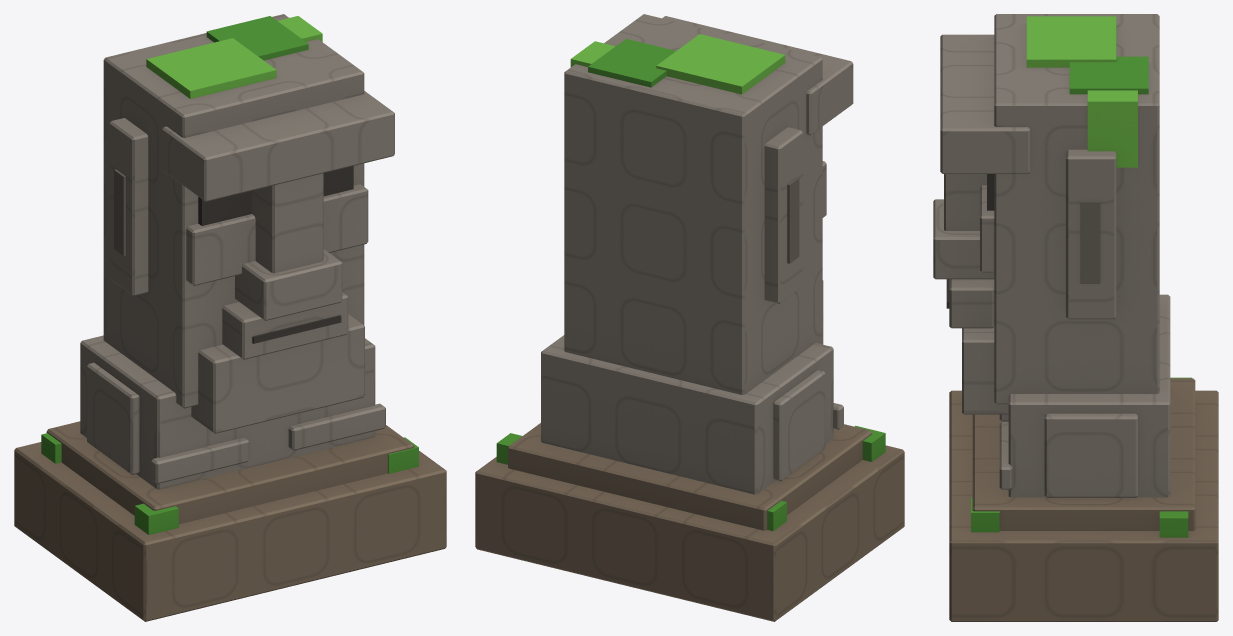
The model's file is Moai.fbx.
3 renders of one model, left to right at view 1: azimuth 30°, elevation 25°; view 2: azimuth 150°, elevation 25°; view 3: azimuth 270°, elevation 25°, orthographic. The views are drawn at different scales.
Visible parts, largest first — view 1: Art_Moai; view 2: Art_Moai; view 3: Art_Moai.
Boxes of the visible parts, <box> form: Art_Moai: <box>14,14,446,621</box>; Art_Moai: <box>475,14,904,621</box>; Art_Moai: <box>933,14,1218,621</box>.
Bounding box in the file's own units: 2 × 3.05 × 1.59.
